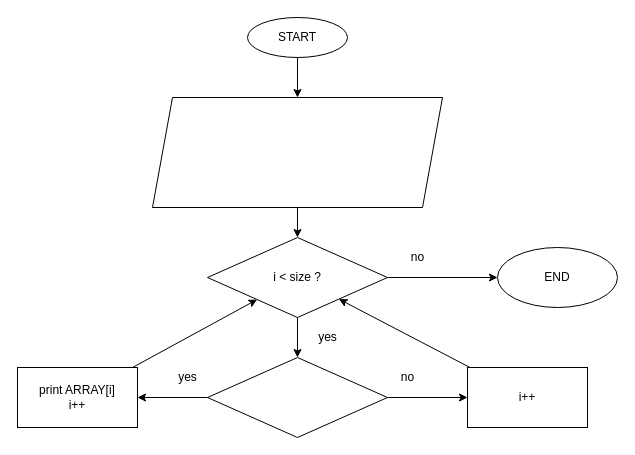
This 635x455 diagram has some shape labels left out. Here are the shapes that lost their labels. From the top down, the centre of each, then its label:
point (297, 152): ARRAY max = 3 i = 0 size = ARRAY.Length
point (297, 397): ARRAY[i] < max ?
